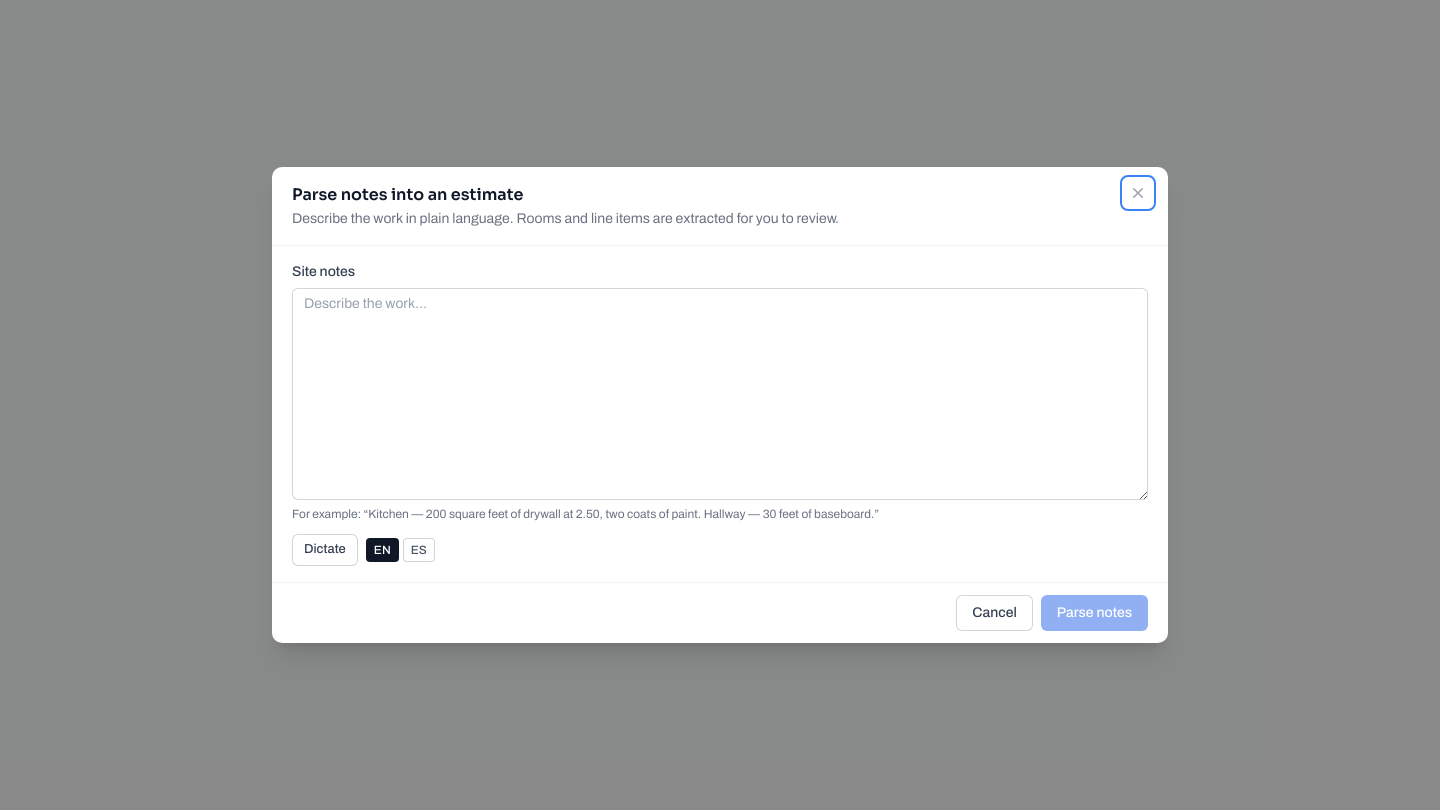
Test: ParseNotesDrawer › parsing › sends the notes and previews what came back
The width and height of the screenshot is (1440, 810).
Type "Kitchen, 200 sf of drywall" into the text box labelled "Site notes".
click(720, 394); type("Kitchen, 200 sf of drywall")  # box x1=292 y1=288 x2=1148 y2=500
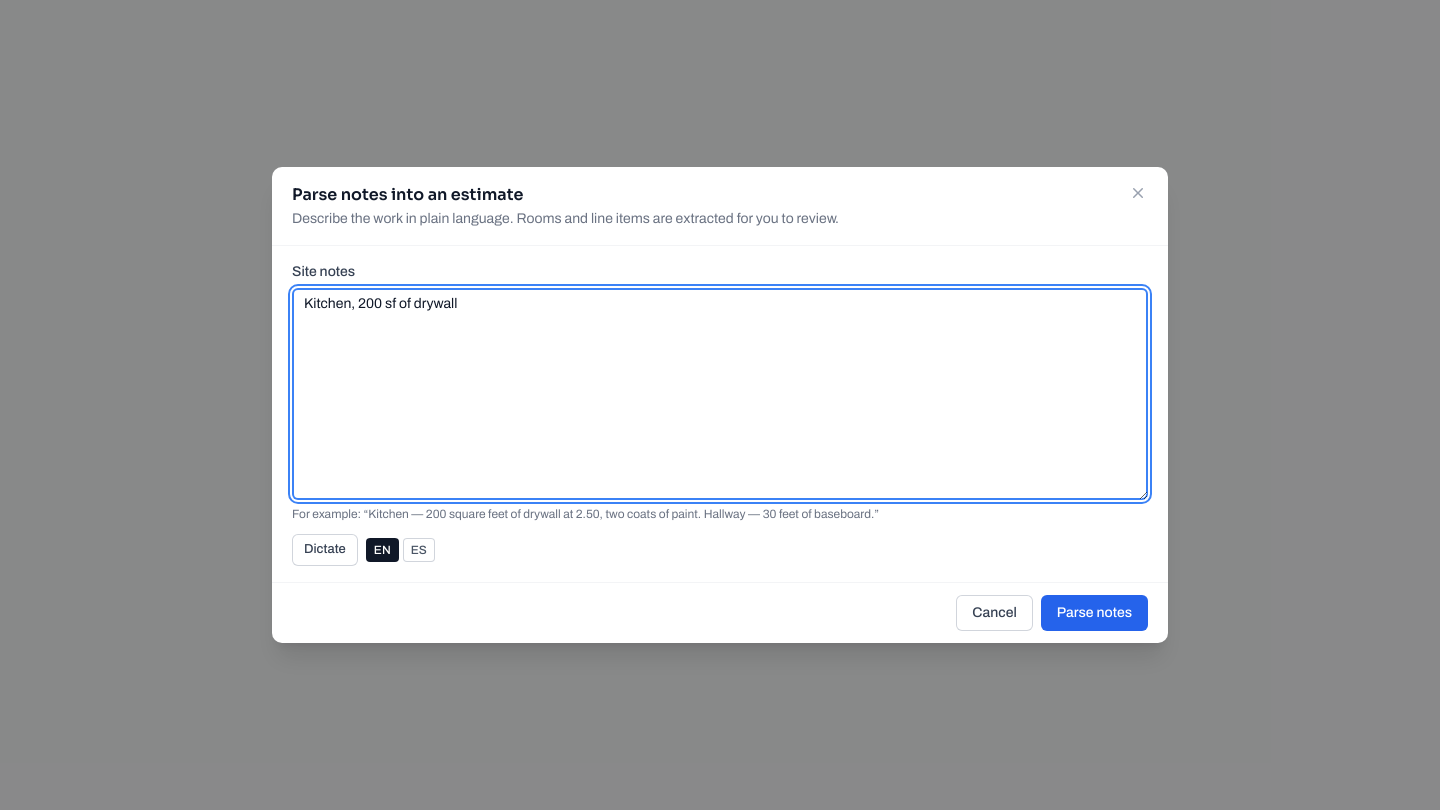
Click the button "Parse notes".
click(1094, 613)  # box x1=1041 y1=595 x2=1148 y2=631
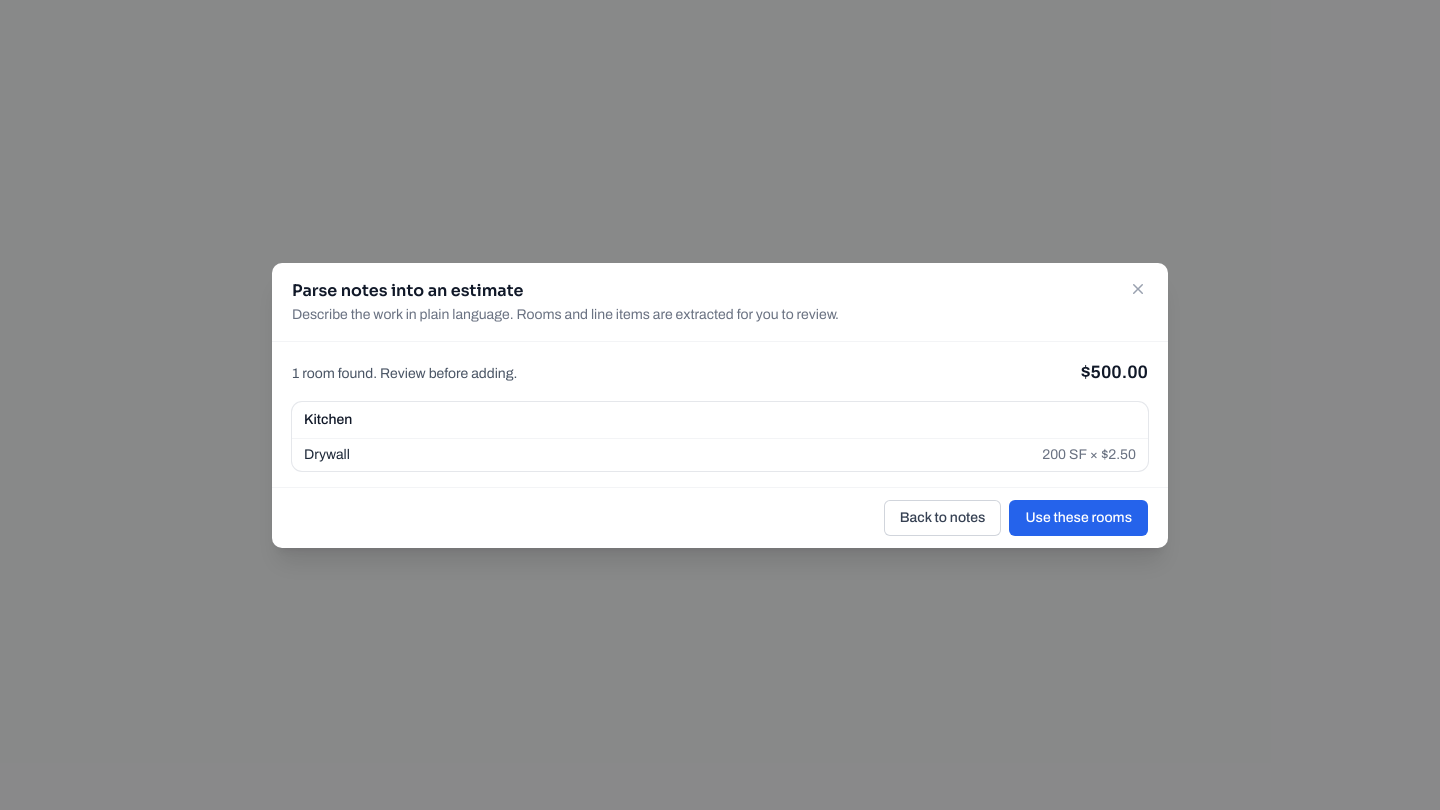
Expected: the text "Kitchen" is shown, x1=292 y1=402 x2=1148 y2=438
Expected: the text named "Draft total" reads "$500.00", x1=1081 y1=362 x2=1148 y2=382
